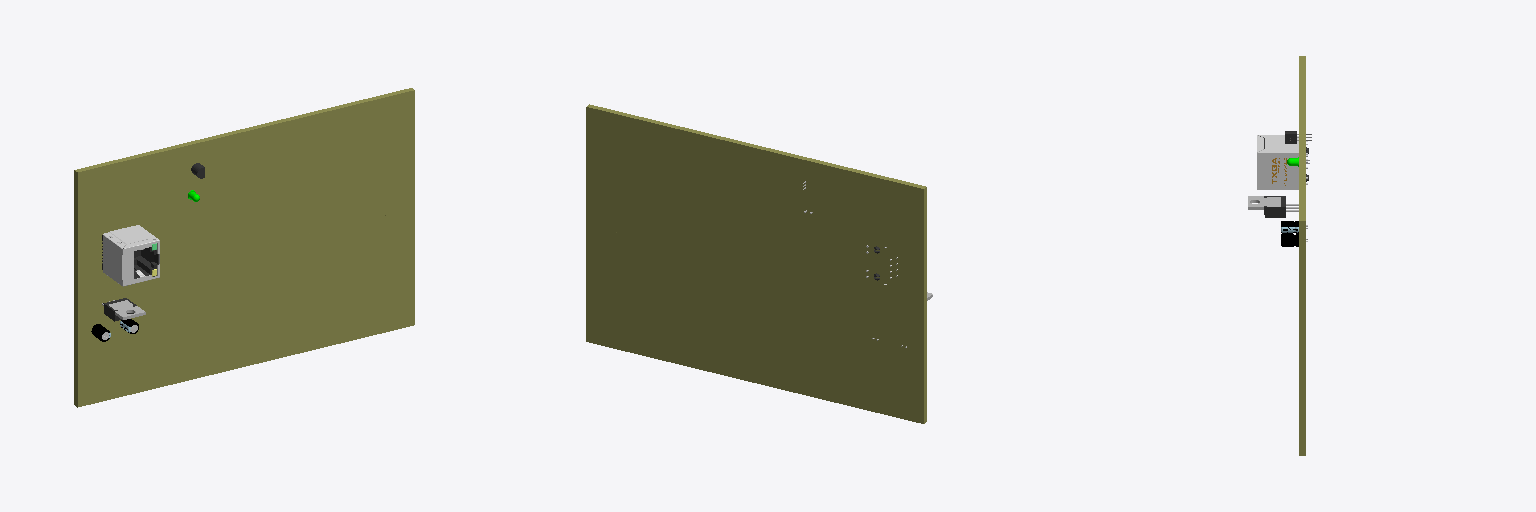
The model's file is OBJ_PCB_crab-lock_8.obj.
3 views of the same model, side by side, from view 1: azimuth 30°, elevation 25°; view 2: azimuth 150°, elevation 25°; view 3: azimuth 270°, elevation 25° (orthographic).
Bounding box in the file's own units: 589 × 393 × 98.03.